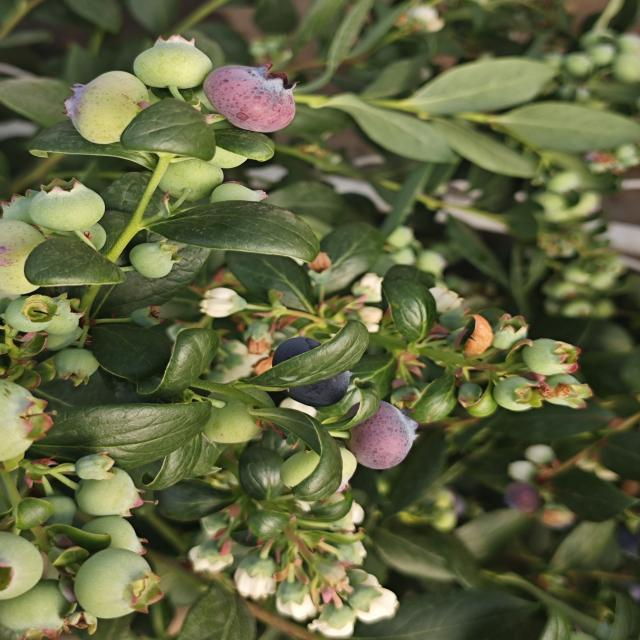ripe: (262, 334, 380, 408)
